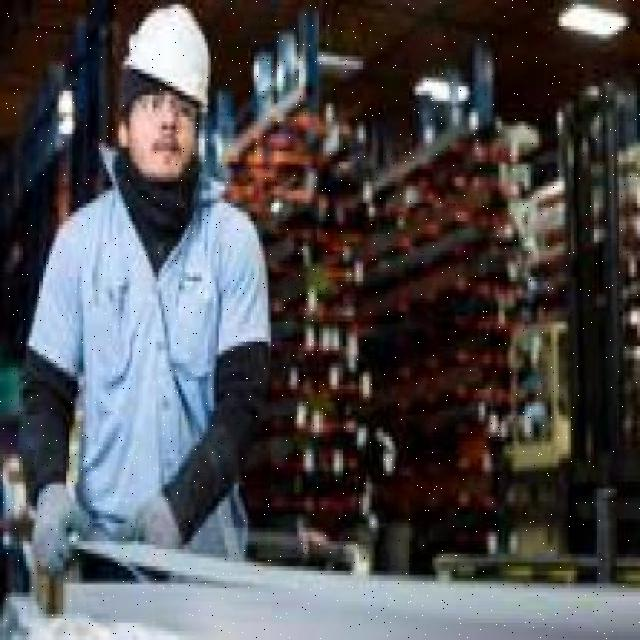Hard_hat: (119, 3, 217, 114)
